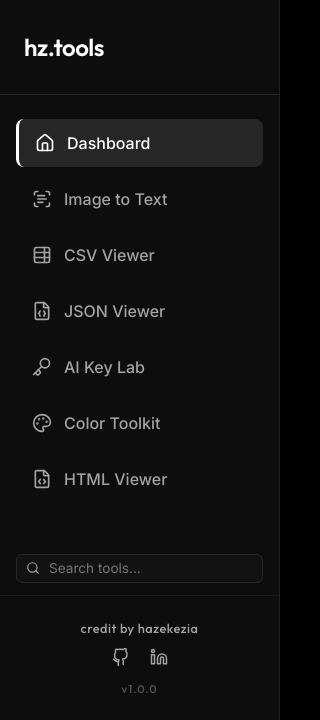
Test case: Sidebar Component › displays a friendly no results message when no items match the query
Search for non-existent tool
Type "nonexistenttoolxyz" into the field with placeholder "Search tools..." at (140, 568), box [16,554,263,583]
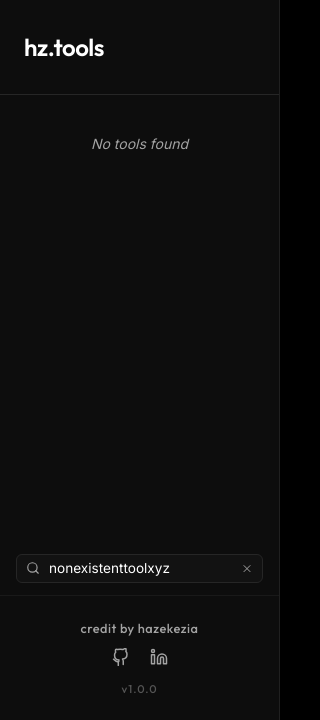
Result: the text "No tools found" is shown at [91,135,188,152]
Result: the link "Dashboard" is gone
Result: the link "CSV Viewer" is gone
